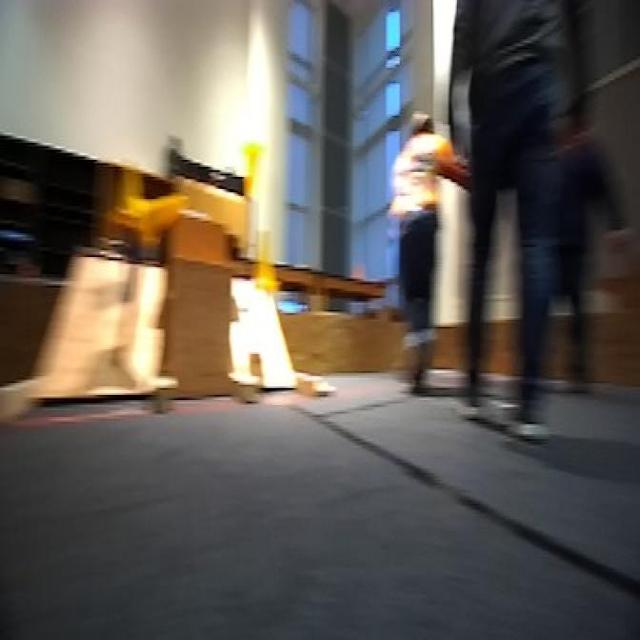frc_cone: (146, 184, 188, 240), (242, 131, 274, 203), (251, 227, 282, 300), (119, 165, 149, 230)
